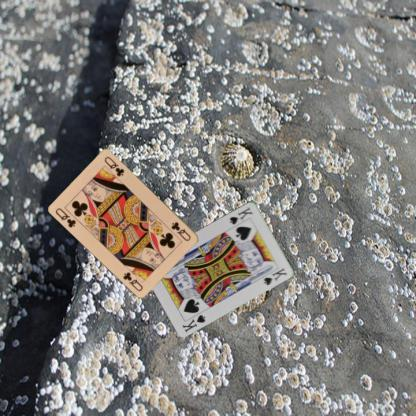Ks: (180, 312, 207, 334), (227, 204, 254, 225)
Qc: (53, 205, 78, 229), (169, 219, 192, 242)
